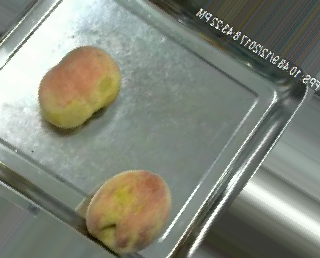Peach: (84, 168, 172, 254), (38, 45, 121, 129)
